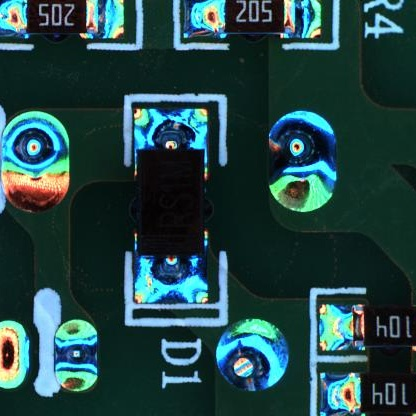spot: (266, 110, 339, 214), (1, 109, 70, 215), (214, 318, 290, 392), (52, 317, 99, 393), (1, 318, 31, 394)
